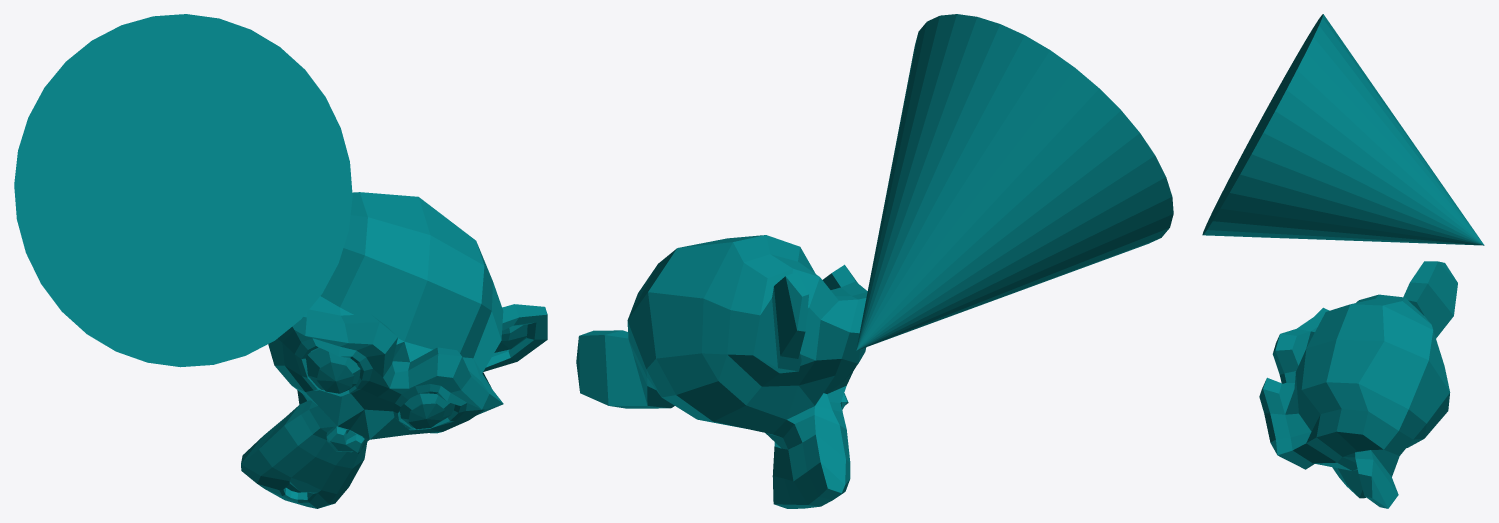
3 renders of one model, left to right at view 1: azimuth 30°, elevation 25°; view 2: azimuth 150°, elevation 25°; view 3: azimuth 270°, elevation 25°, orthographic. The views are drawn at different scales.
Parts seen in each view (by area): view 1: Cone, Suzanne; view 2: Cone, Suzanne; view 3: Cone, Suzanne.
Boxes of the visible parts, <box> form: Cone: <box>14,14,352,367</box>; Suzanne: <box>241,192,547,508</box>; Cone: <box>856,14,1173,350</box>; Suzanne: <box>576,235,867,508</box>; Cone: <box>1202,14,1484,245</box>; Suzanne: <box>1259,261,1457,508</box>.
Bounding box in the file's own units: 58.29 × 53.02 × 33.76.
